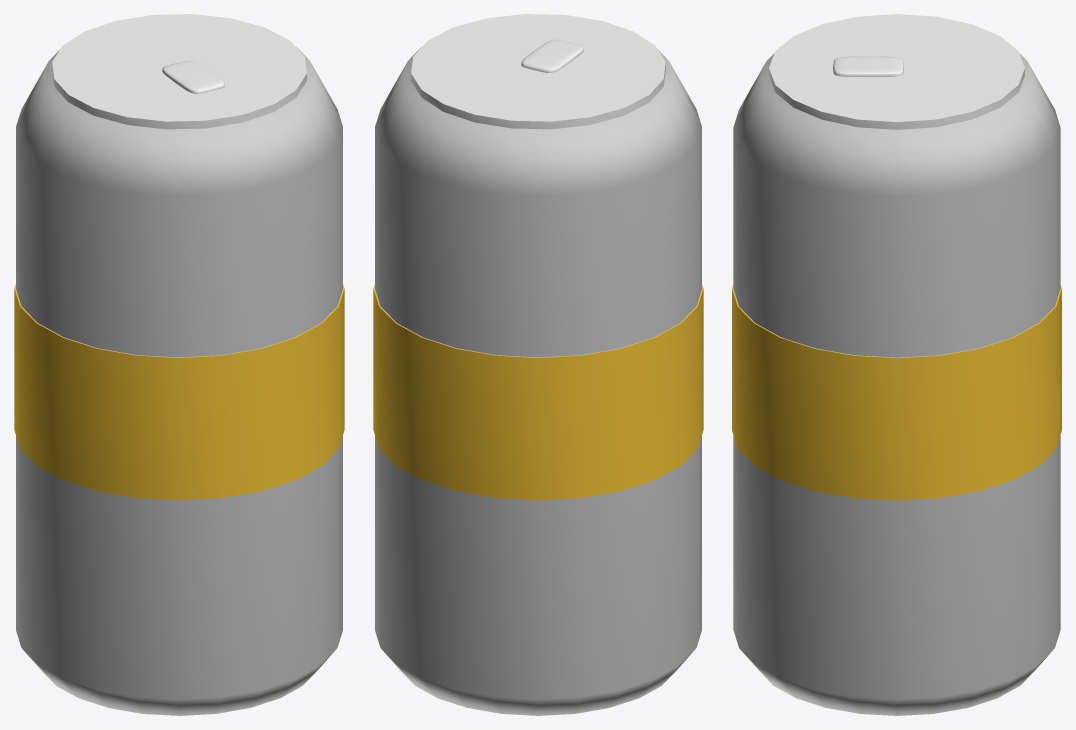
Rendered from sweet_soda.fbx.
3 renders of one model, left to right at view 1: azimuth 30°, elevation 25°; view 2: azimuth 150°, elevation 25°; view 3: azimuth 270°, elevation 25°, orthographic.
Parts seen in each view (by area): view 1: sweet_soda; view 2: sweet_soda; view 3: sweet_soda.
Part boxes in pixels (<box>): sweet_soda: <box>14,14,344,715</box>; sweet_soda: <box>373,14,703,715</box>; sweet_soda: <box>732,14,1061,715</box>.
Bounding box in the file's own units: 0.464 × 0.918 × 0.464.
